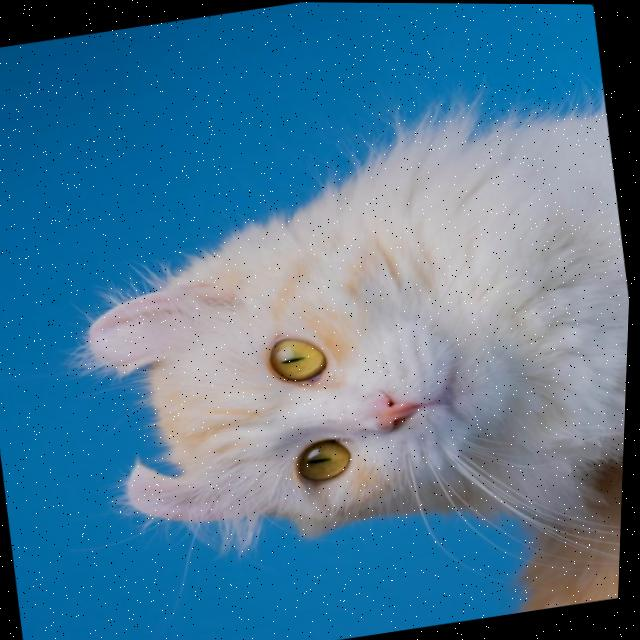American Curl: (43, 70, 638, 640)
